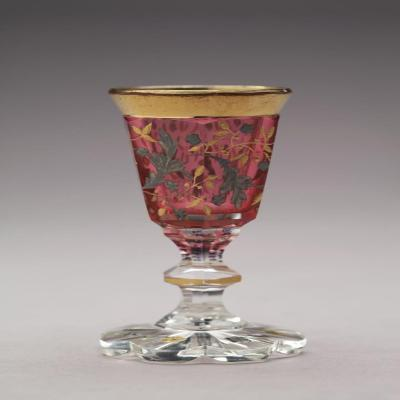dpi: (103, 86, 303, 366)
